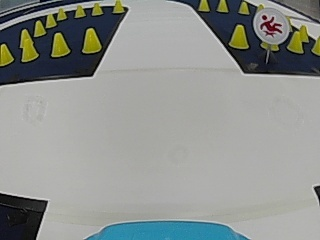cone: (229, 24, 249, 49), (81, 27, 100, 53), (50, 32, 69, 57), (21, 37, 36, 61), (286, 31, 302, 53), (0, 42, 13, 66), (33, 18, 45, 37), (216, 0, 229, 13), (45, 13, 56, 28), (238, 0, 249, 15), (197, 0, 210, 12), (92, 2, 103, 16), (74, 4, 85, 18), (56, 7, 67, 21), (299, 24, 307, 42), (113, 0, 124, 13)
tumble: (258, 12, 286, 39)
